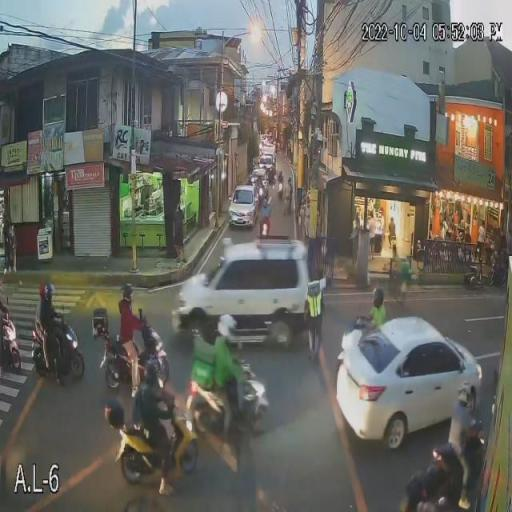helmet: (446, 379, 476, 409), (140, 360, 168, 392), (113, 276, 139, 306), (31, 274, 54, 300), (216, 310, 239, 336), (365, 283, 387, 310), (46, 281, 59, 300)
motorcycle: (406, 414, 500, 512), (100, 398, 198, 490), (187, 361, 279, 441), (94, 305, 179, 390), (30, 302, 92, 381), (334, 319, 369, 376), (0, 312, 27, 379)
rider: (135, 379, 178, 498), (209, 334, 245, 452), (446, 401, 481, 512), (113, 304, 152, 391), (45, 301, 73, 373), (38, 299, 54, 373), (370, 301, 387, 330)
